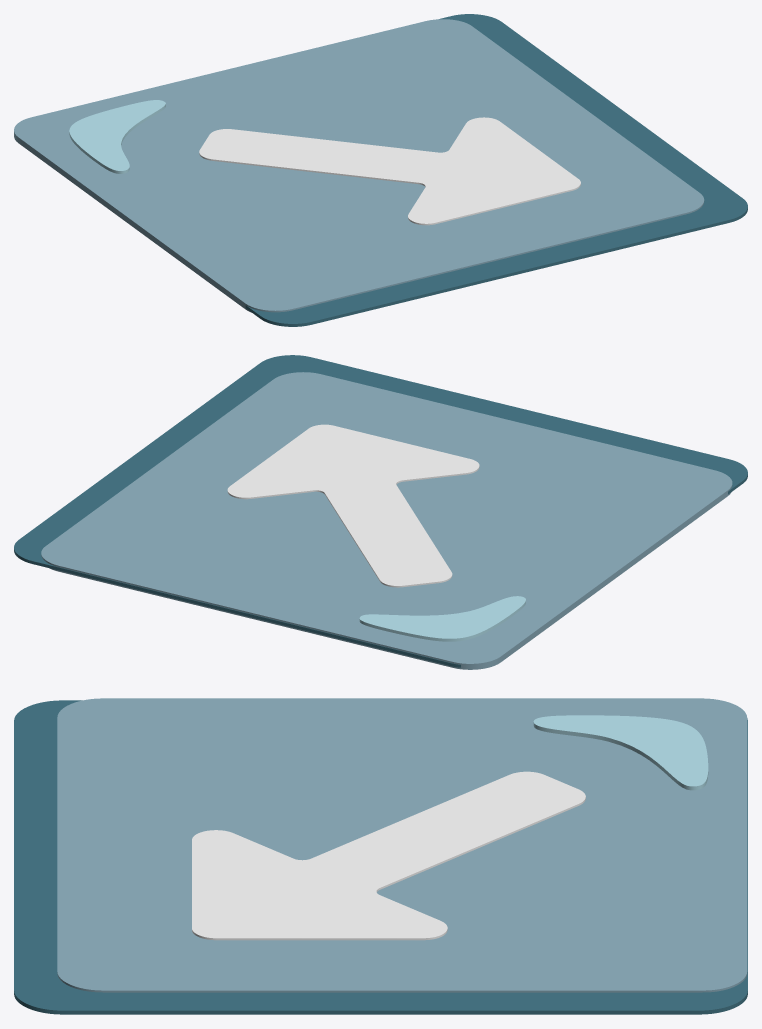
File: emoji_u2198.glb
3 views of the same model, one above another, from view 1: azimuth 30°, elevation 25°; view 2: azimuth 150°, elevation 25°; view 3: azimuth 270°, elevation 25° (orthographic). The views are drawn at different scales.
Parts seen in each view (by area): view 1: emoji_u2198; view 2: emoji_u2198; view 3: emoji_u2198.
Part boxes in pixels (x1,y1,x2,y2): emoji_u2198: (14, 14, 747, 326); emoji_u2198: (14, 355, 747, 669); emoji_u2198: (14, 698, 747, 1014).
Bounding box in the file's own units: 0.0339 × 0.0008 × 0.0339.
